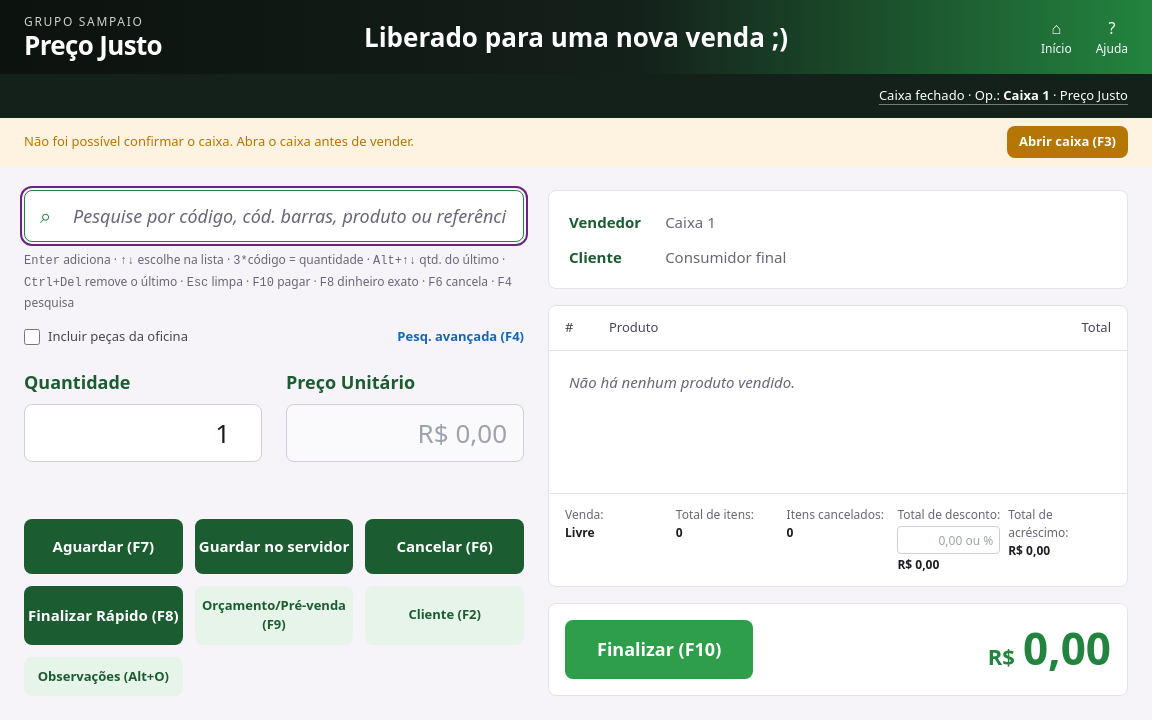
Test: o próximo cliente encontra a tela limpa › depois da venda, o foco volta para a busca — o leitor não bipa no vazio
In the field with placeholder "Pesquise por código, cód. barras, produto ou referência": (274, 216) [24,190,524,242], type "7890000001111"
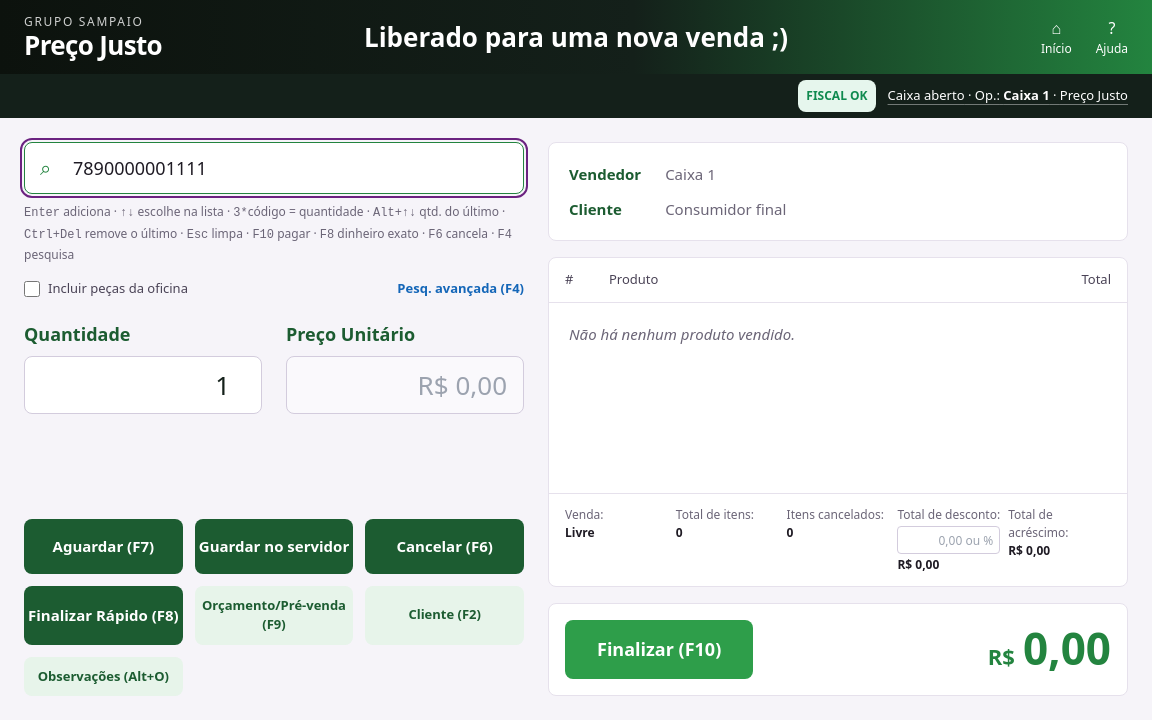
Press Enter in the field with placeholder "Pesquise por código, cód. barras, produto ou referência", box [24,142,524,194]
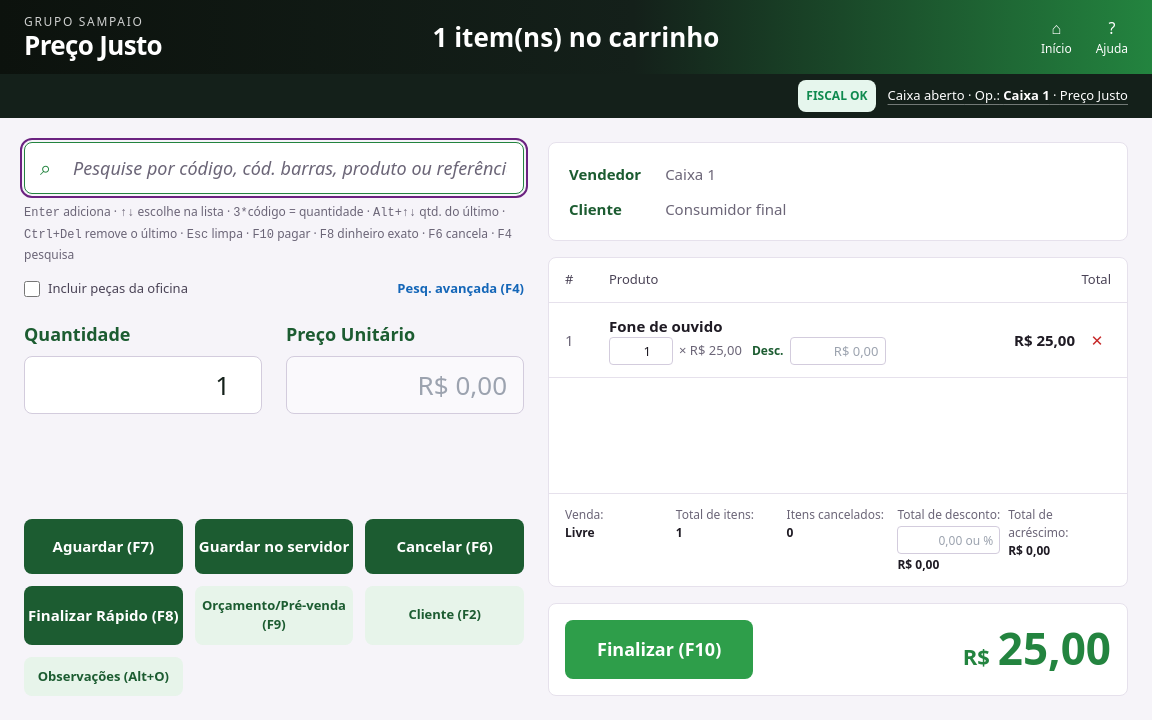
Expected: the text "Fone de ouvido" is shown, [609,316,722,336]
Press F10
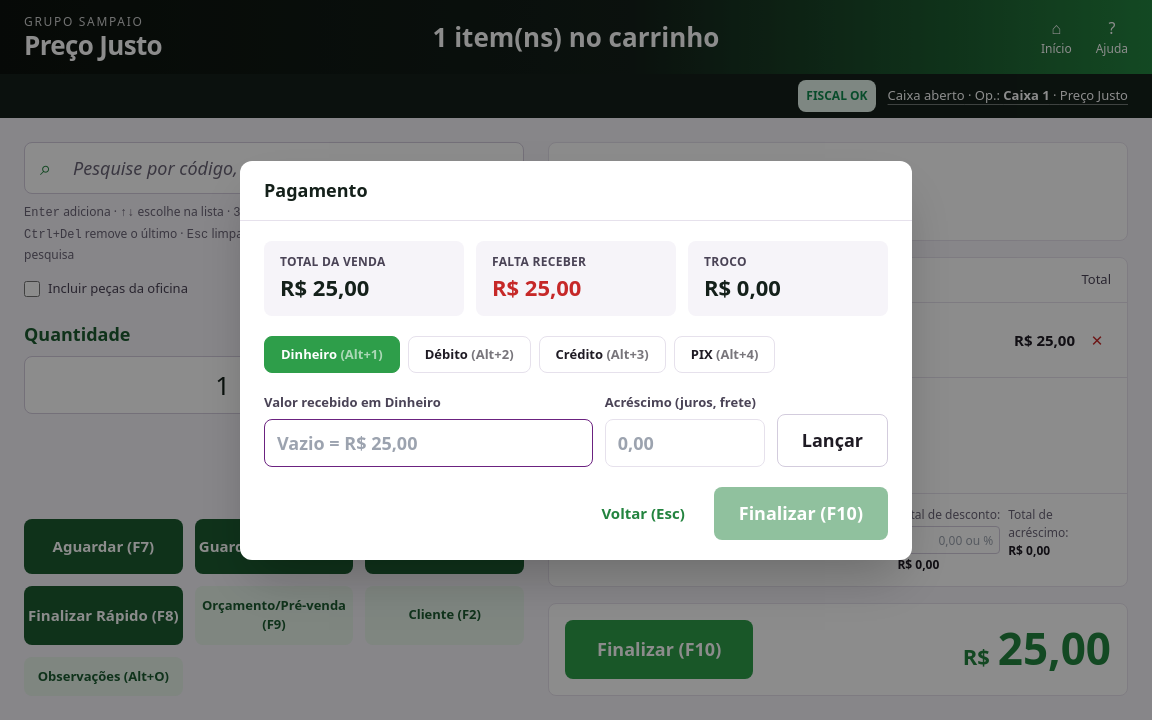
Click the button "Lançar": click(832, 440) [777,414,888,466]
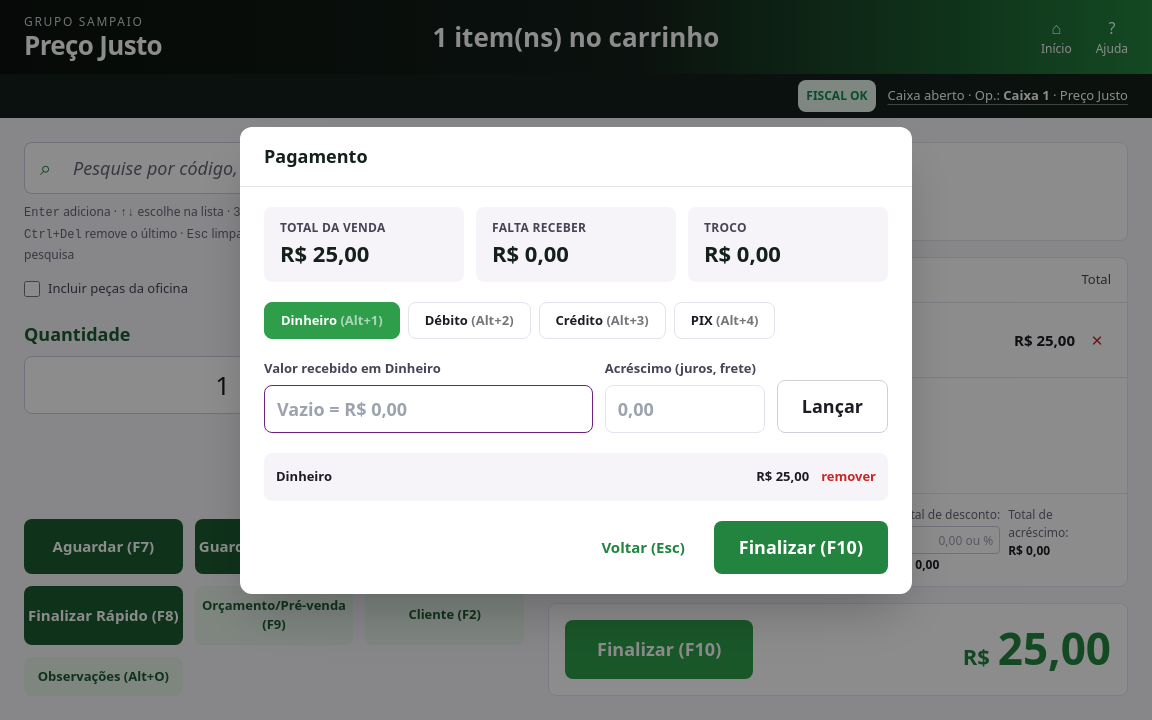
Expected: the button "Finalizar (F10)" is enabled
Click the button "Finalizar (F10)": click(801, 547) [714,520,888,574]
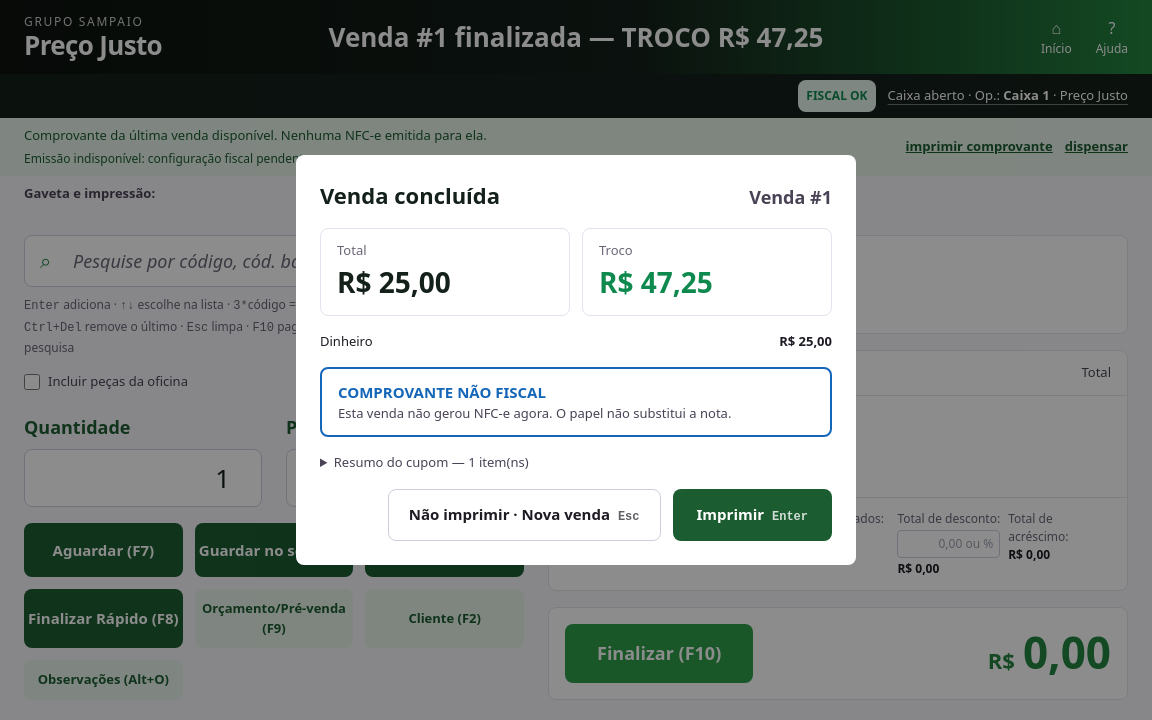
Expected: the text "Venda #1 finalizada — TROCO R$ 47,25" is shown, [312,18,840,56]
Press 7 in the button "Imprimir Enter", box [672,489,832,541]
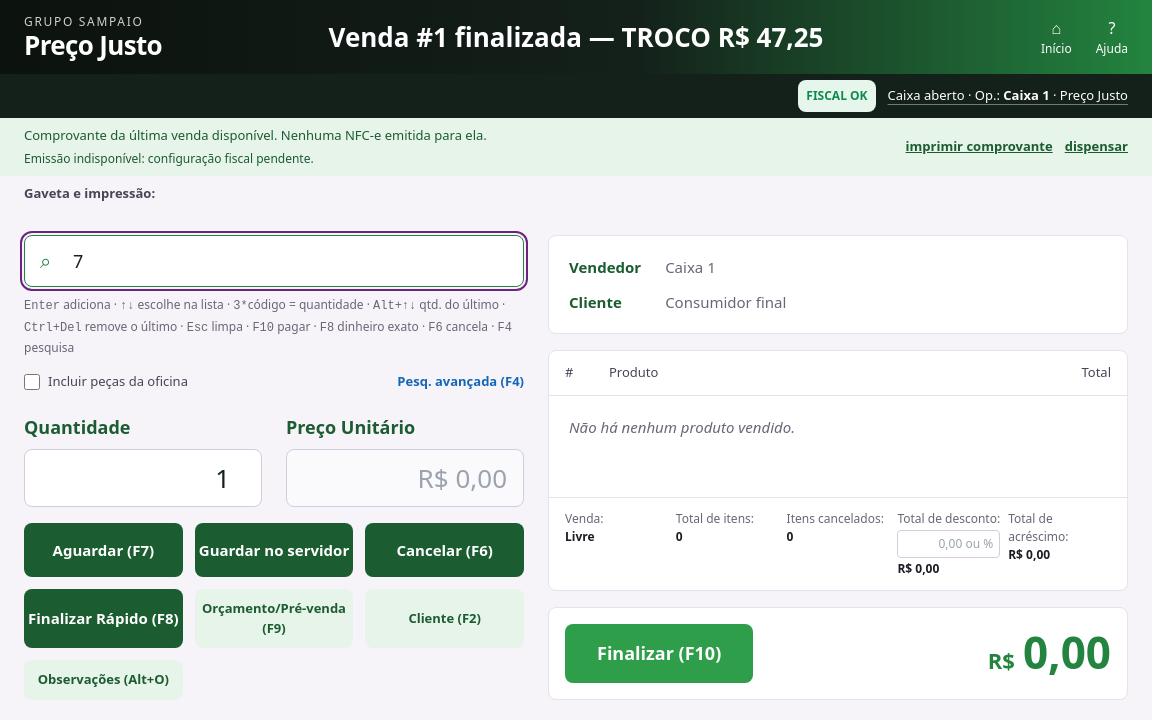
Expected: the heading "Venda concluída" is gone
Expected: the field with placeholder "Pesquise por código, cód. barras, produto ou referência" holds "7", [24,235,524,287]
